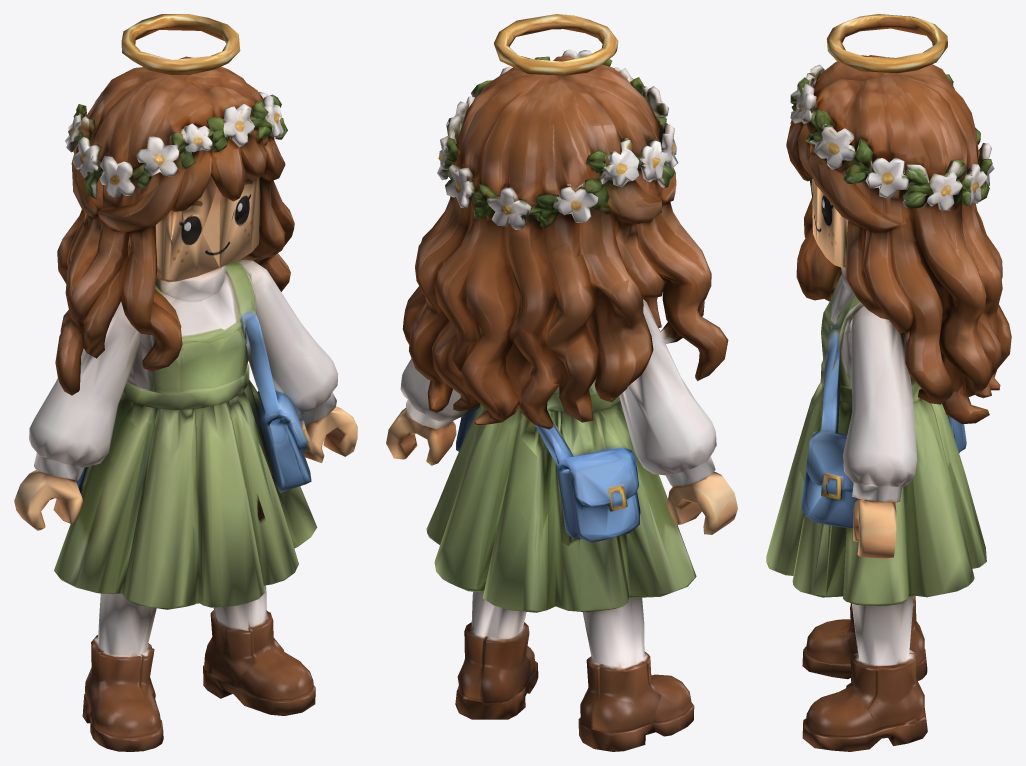
File: NPC_HaloFlowerGirl_face.glb
The picture shows the model from 3 angles, left to right: view 1: azimuth 30°, elevation 25°; view 2: azimuth 150°, elevation 25°; view 3: azimuth 270°, elevation 25°; orthographic projection. The views are drawn at different scales.
Parts seen in each view (by area): view 1: NPC_HaloFlowerGirl_Body, NPC_HaloFlowerGirl_Head; view 2: NPC_HaloFlowerGirl_Body, NPC_HaloFlowerGirl_Head; view 3: NPC_HaloFlowerGirl_Body, NPC_HaloFlowerGirl_Head.
Part boxes in pixels (bbox=[...]): NPC_HaloFlowerGirl_Body: bbox=[14, 253, 357, 751]; NPC_HaloFlowerGirl_Head: bbox=[57, 14, 294, 330]; NPC_HaloFlowerGirl_Body: bbox=[386, 286, 737, 751]; NPC_HaloFlowerGirl_Head: bbox=[415, 14, 711, 338]; NPC_HaloFlowerGirl_Body: bbox=[766, 245, 1011, 751]; NPC_HaloFlowerGirl_Head: bbox=[786, 14, 1002, 334].
Bounding box in the file's own units: 0.5102 × 0.9799 × 0.3274.
Materials: 2 (2 with a texture image).
